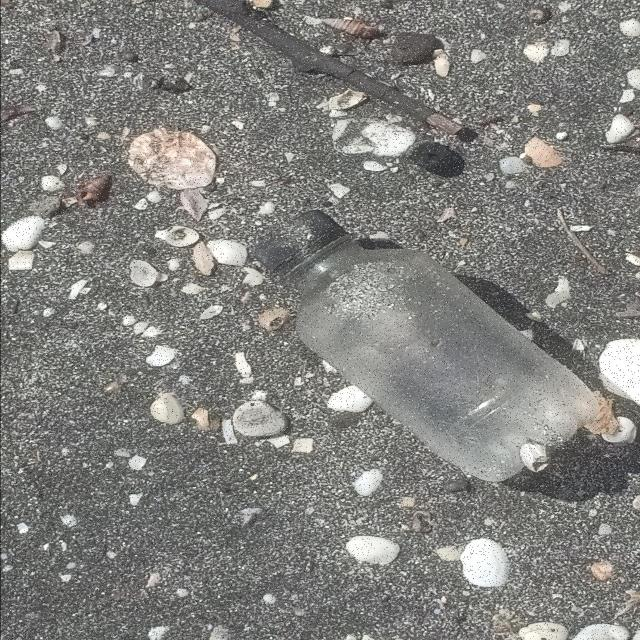plastic_waste: (253, 210, 604, 484)
